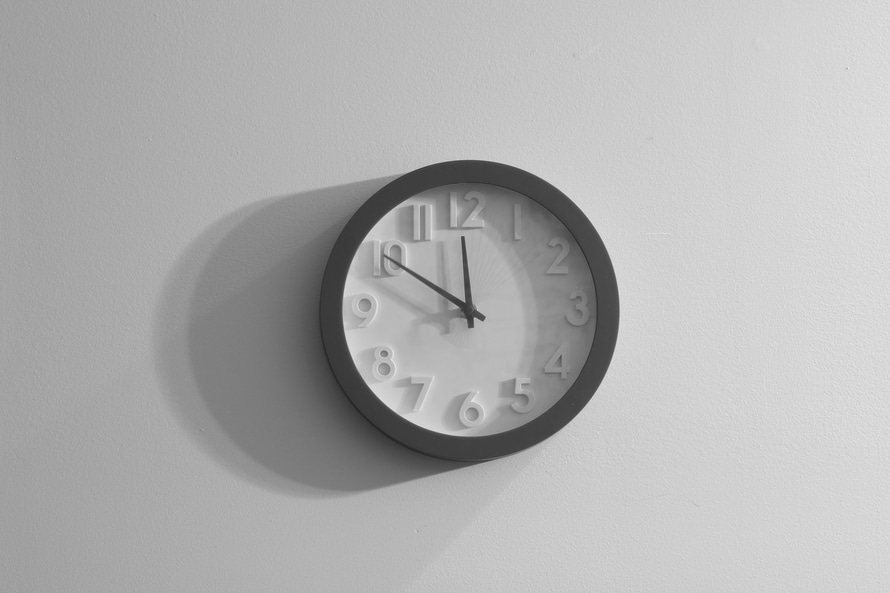clock: (341, 180, 600, 443)
